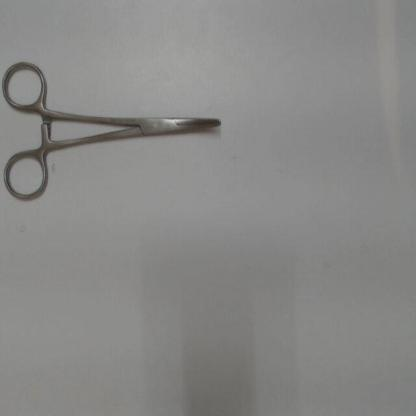Crile Artery Forceps: (2, 53, 229, 201)
